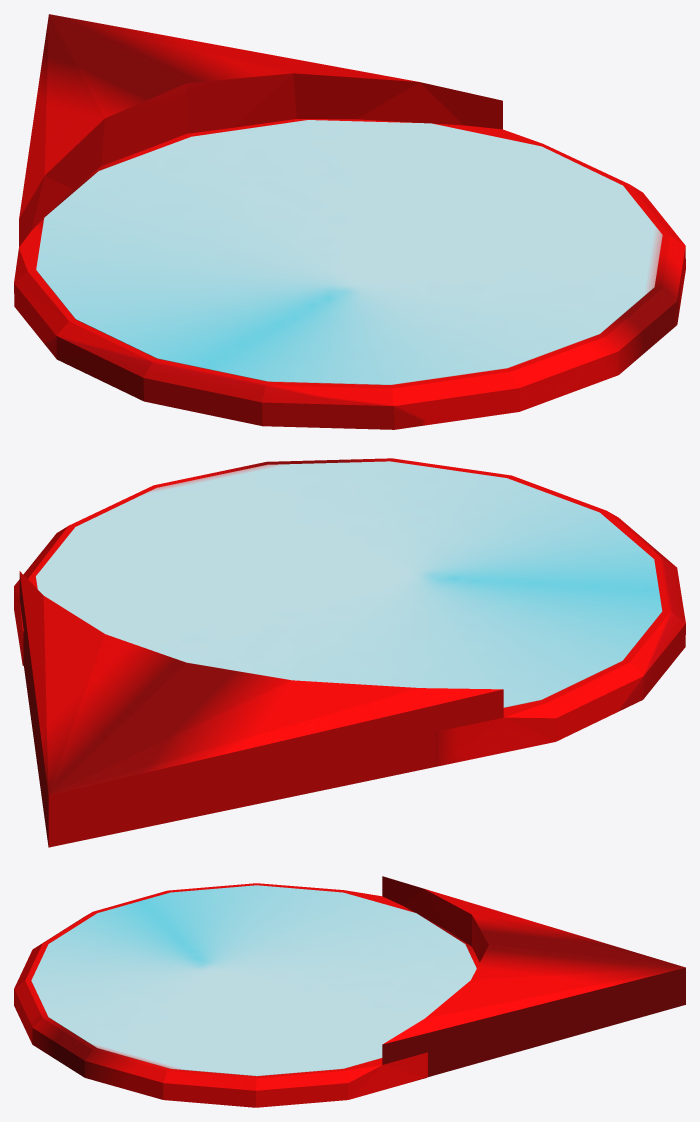
File: model_carsor.obj
3 renders of one model, top to bottom at view 1: azimuth 30°, elevation 25°; view 2: azimuth 150°, elevation 25°; view 3: azimuth 270°, elevation 25°, orthographic. The views are drawn at different scales.
Parts seen in each view (by area): view 1: CarsorBase_Circle.001, CarsorArrow_Plane, Circle; view 2: CarsorBase_Circle.001, CarsorArrow_Plane, Circle; view 3: CarsorBase_Circle.001, CarsorArrow_Plane, Circle.
Boxes of the visible parts, left/top/right/bottom form: CarsorBase_Circle.001: left=36, top=120, right=662, bottom=384; CarsorArrow_Plane: left=19, top=14, right=502, bottom=246; Circle: left=14, top=119, right=685, bottom=429; CarsorBase_Circle.001: left=35, top=461, right=662, bottom=707; CarsorArrow_Plane: left=19, top=571, right=503, bottom=847; Circle: left=14, top=458, right=685, bottom=766; CarsorBase_Circle.001: left=31, top=885, right=476, bottom=1076; CarsorArrow_Plane: left=382, top=876, right=685, bottom=1076; Circle: left=14, top=883, right=479, bottom=1107.
Size of the model in its own units: 2.5 by 0.3484 by 3.47.
Materials: 1 (1 with a texture image).
